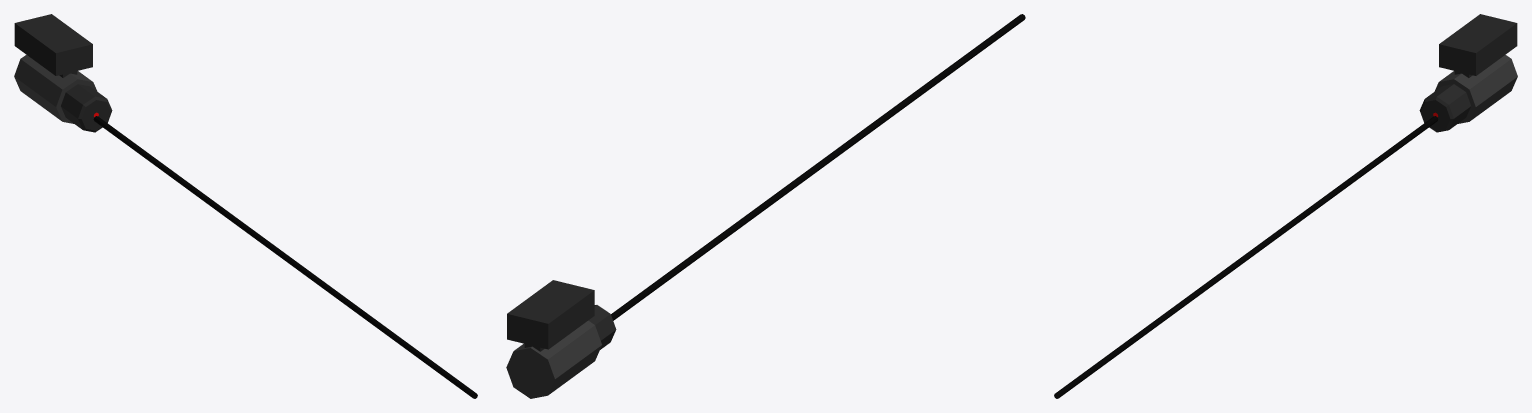
The model's file is Accessories_Laser_V2.FBX.
3 renders of one model, left to right at view 1: azimuth 30°, elevation 25°; view 2: azimuth 150°, elevation 25°; view 3: azimuth 330°, elevation 25°, orthographic. The views are drawn at different scales.
Visible parts, largest first — view 1: Accessories_Laser_V2, laser_light.001; view 2: Accessories_Laser_V2, laser_light.001; view 3: Accessories_Laser_V2, laser_light.001.
Boxes of the visible parts, x1,y1,x2,y2 form: Accessories_Laser_V2: [14, 14, 112, 132]; laser_light.001: [93, 116, 477, 398]; Accessories_Laser_V2: [506, 280, 616, 398]; laser_light.001: [611, 14, 1025, 320]; Accessories_Laser_V2: [1419, 14, 1517, 132]; laser_light.001: [1054, 116, 1438, 398].
Bounding box in the file's own units: 9.25 × 14.91 × 163.
